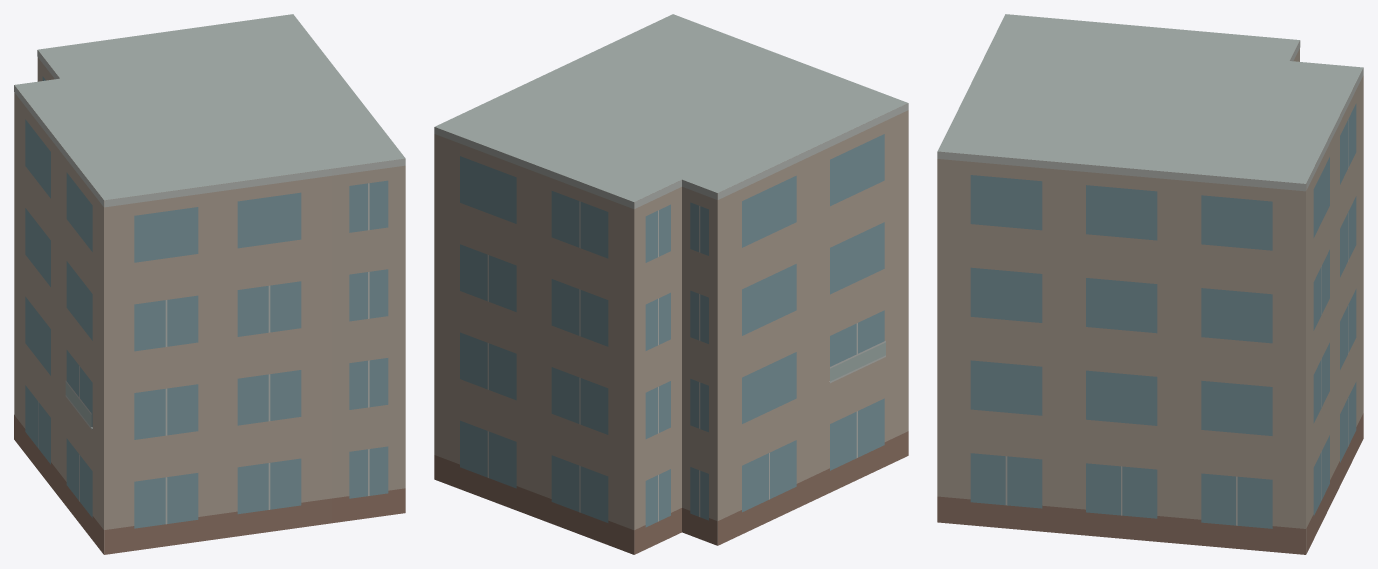
Rendered from residential-ddd46d02-8341-4e33-93ca-58dccf63d298.glb.
The picture shows the model from 3 angles, left to right: view 1: azimuth 30°, elevation 25°; view 2: azimuth 150°, elevation 25°; view 3: azimuth 270°, elevation 25°; orthographic projection. The views are drawn at different scales.
Visible parts, largest first — view 1: residential-ddd46d02-8341-4e33-93ca-58dccf63d298.tmp; view 2: residential-ddd46d02-8341-4e33-93ca-58dccf63d298.tmp; view 3: residential-ddd46d02-8341-4e33-93ca-58dccf63d298.tmp.
Boxes of the visible parts, x1=… form: residential-ddd46d02-8341-4e33-93ca-58dccf63d298.tmp: x1=14, y1=14, x2=405, y2=554; residential-ddd46d02-8341-4e33-93ca-58dccf63d298.tmp: x1=434, y1=14, x2=908, y2=554; residential-ddd46d02-8341-4e33-93ca-58dccf63d298.tmp: x1=937, y1=14, x2=1363, y2=554.
Bounding box in the file's own units: 12 × 12.2 × 12.71.
